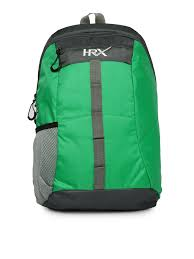backpack: (27, 12, 162, 211)
